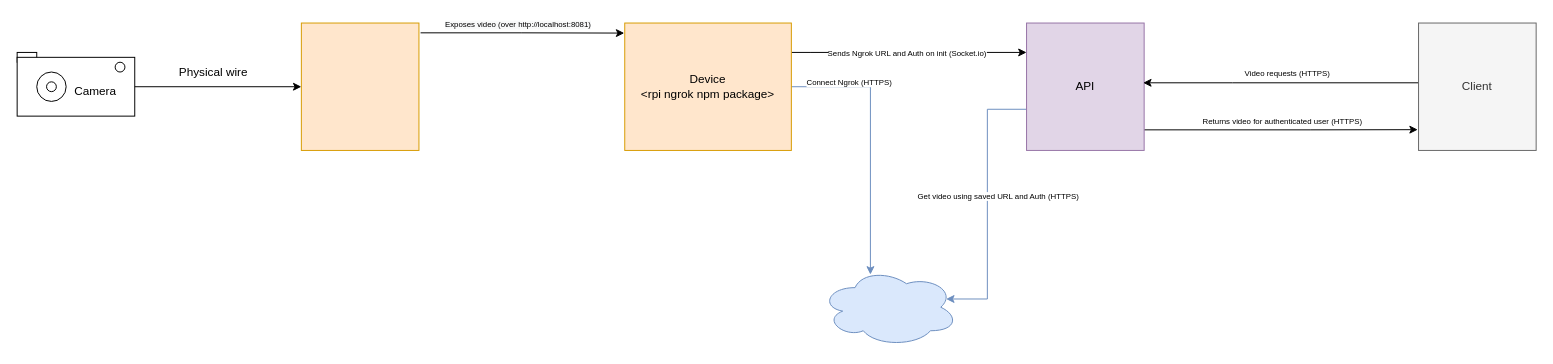
Some shapes in this 1553 by 364 pixel diagram are drawn without their labels. The shapes that lost their labels are listed below. From the top down, each one's box as (x1, y1, x2, y2) in pixels, then its label:
(300, 22, 419, 150): Motion (only local) <rpi linux service>
(820, 267, 958, 346): Ngrok server
